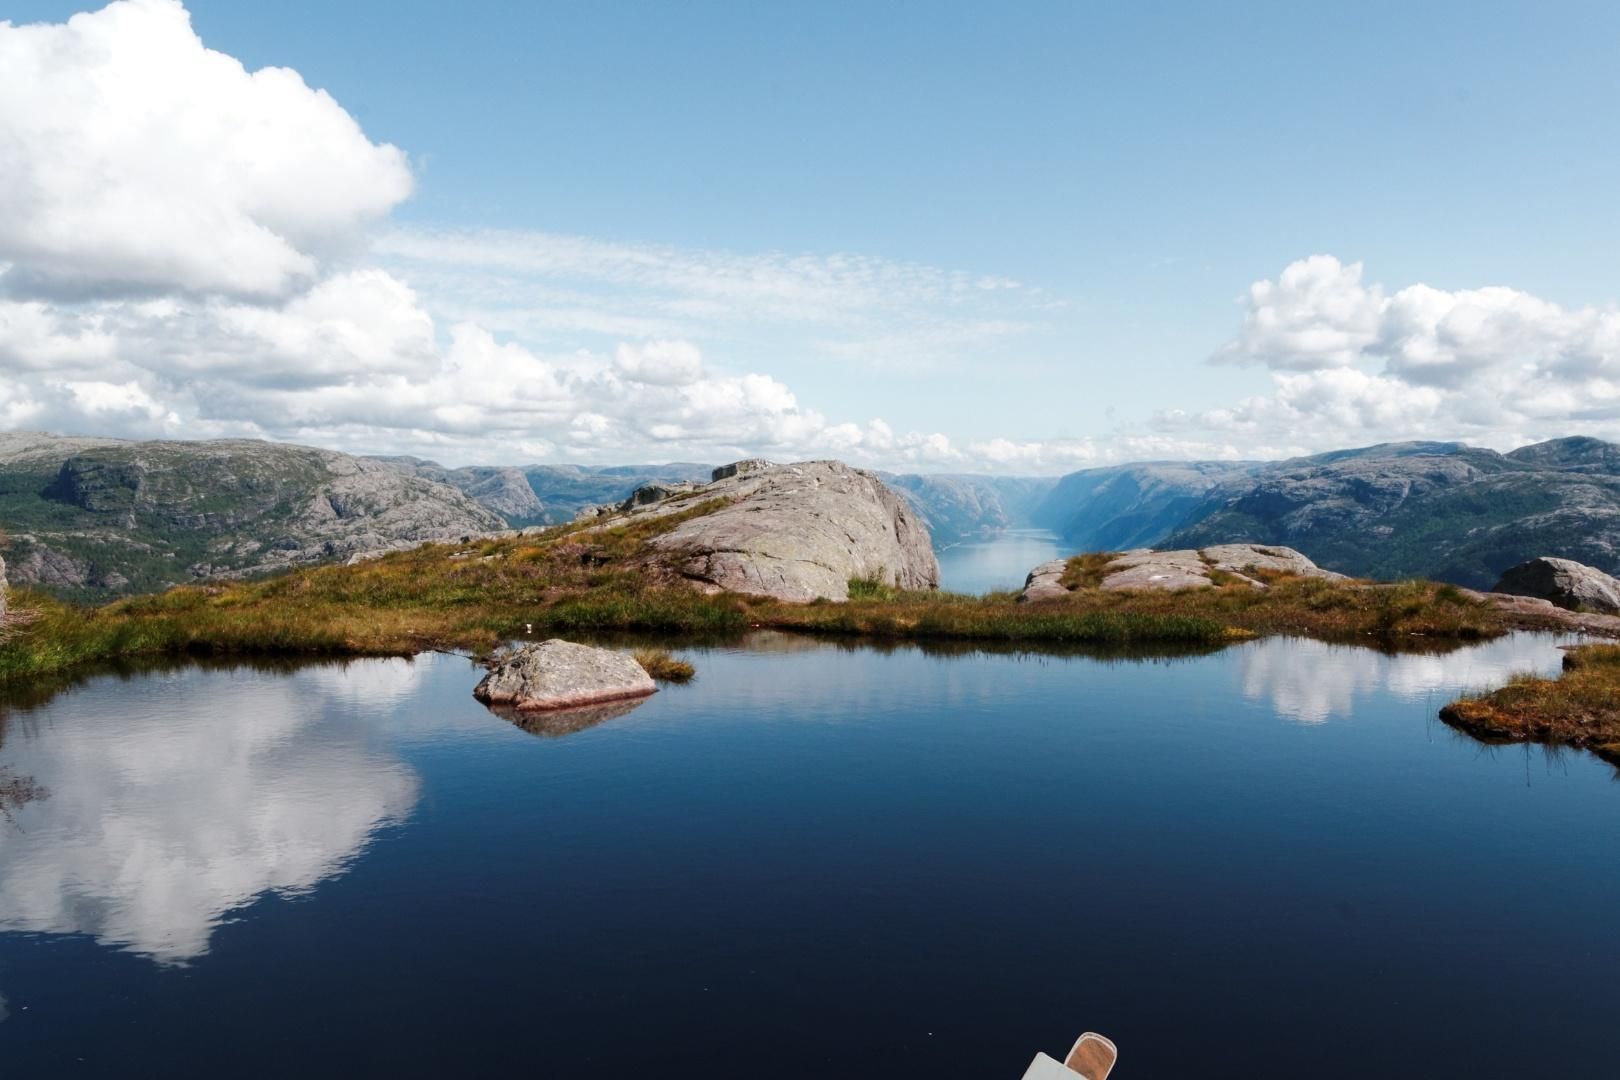paper-bag: (968, 1029, 1128, 1080)
